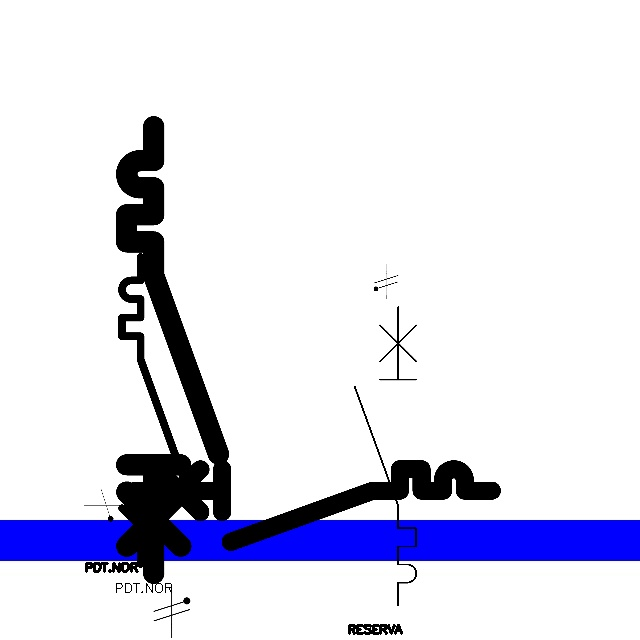interruptor_termomagnetico: (115, 115, 230, 585), (126, 460, 500, 551), (114, 249, 193, 572), (347, 299, 424, 613)
